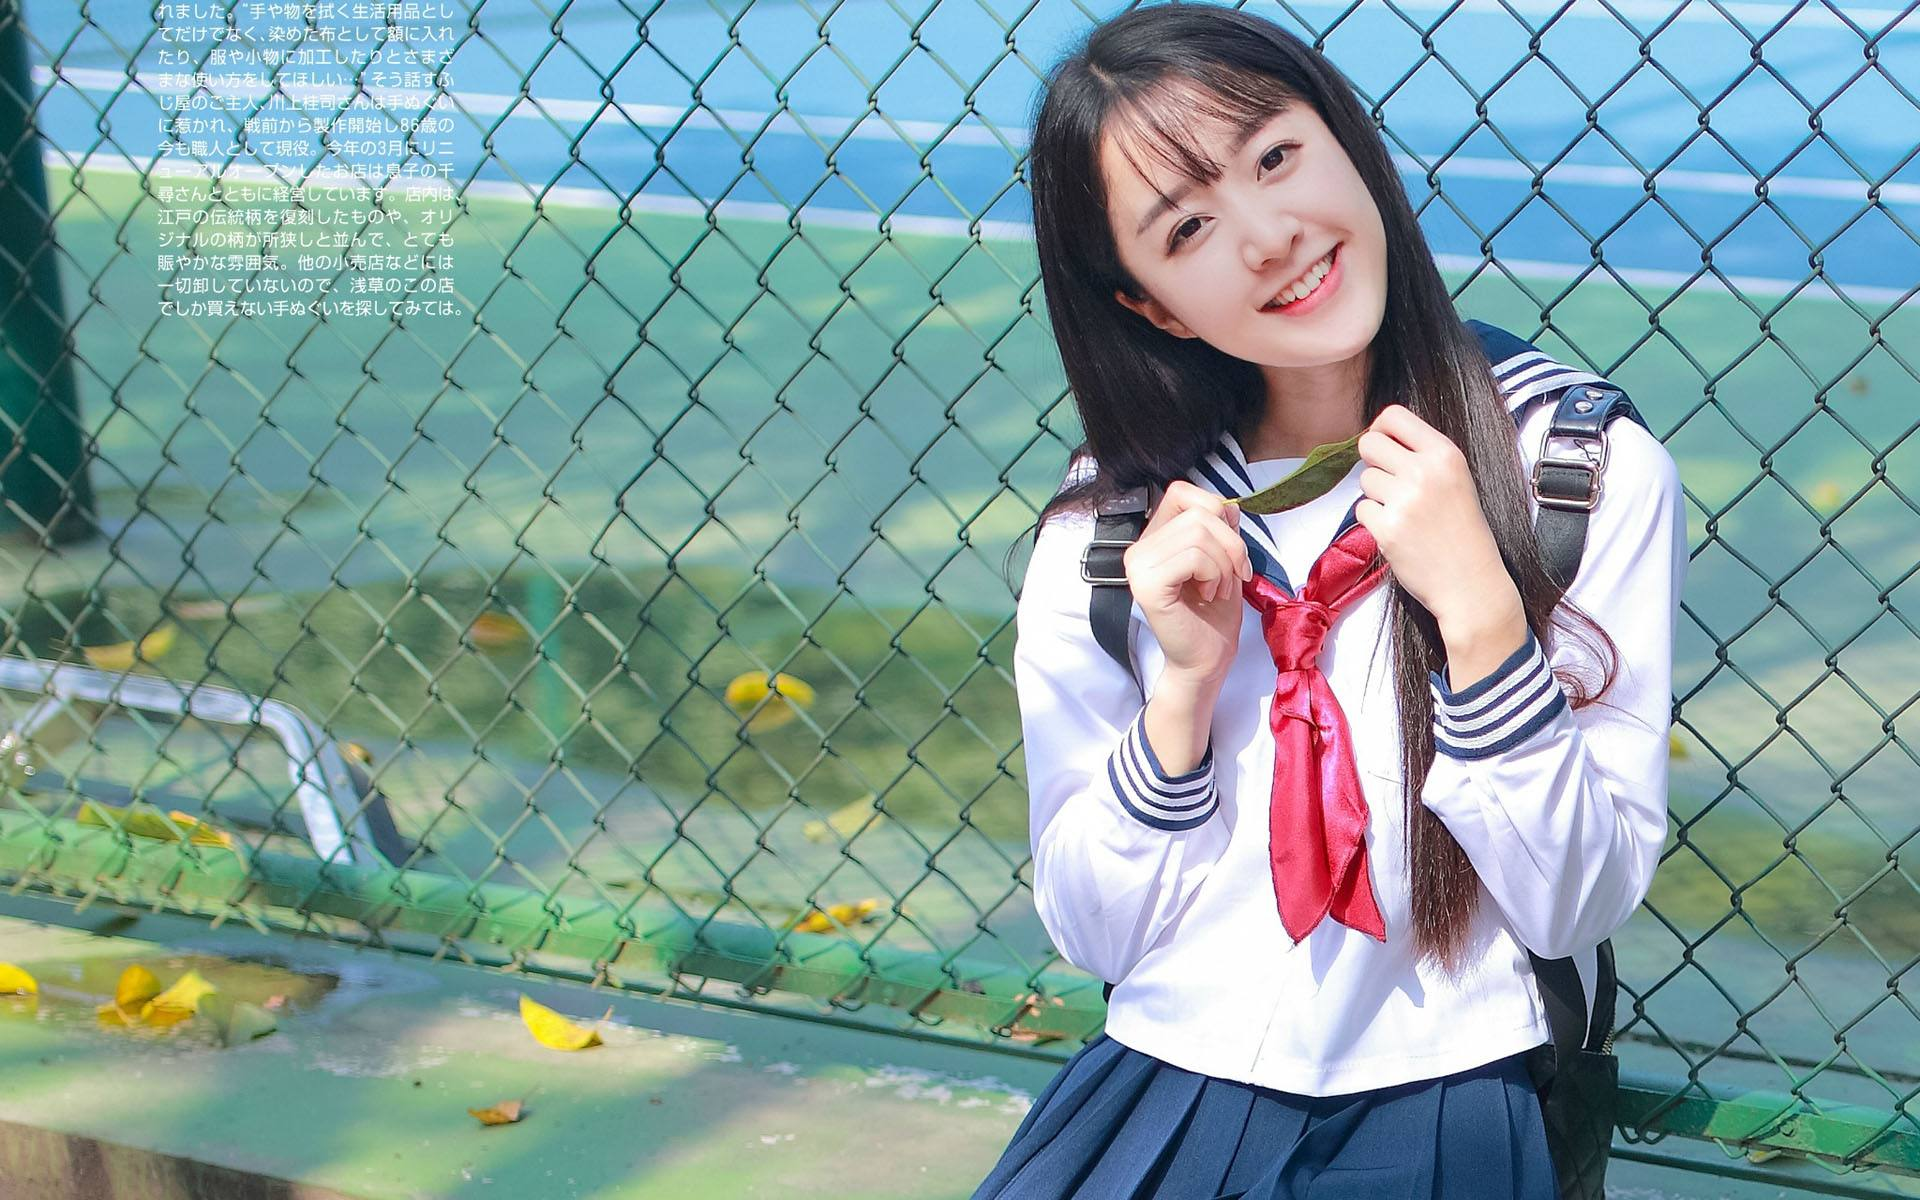person: (920, 26, 1605, 951)
